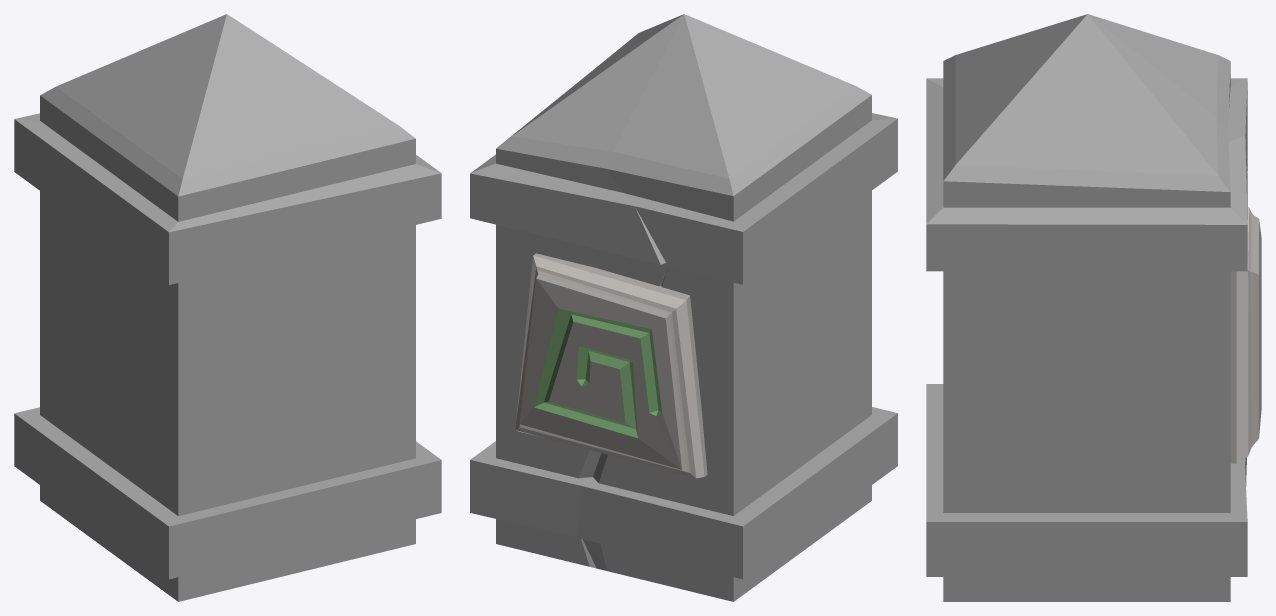
The model's file is ER_Asset_EarthStone.fbx.
3 renders of one model, left to right at view 1: azimuth 30°, elevation 25°; view 2: azimuth 150°, elevation 25°; view 3: azimuth 270°, elevation 25°, orthographic. The views are drawn at different scales.
Visible parts, largest first — view 1: pCube735; view 2: pCube735; view 3: pCube735.
Boxes of the visible parts, x1,y1,x2,y2 form: pCube735: [14, 14, 441, 601]; pCube735: [470, 14, 897, 601]; pCube735: [926, 14, 1261, 601].
Size of the model in its own units: 0.8993 by 1.6 by 0.9225.
